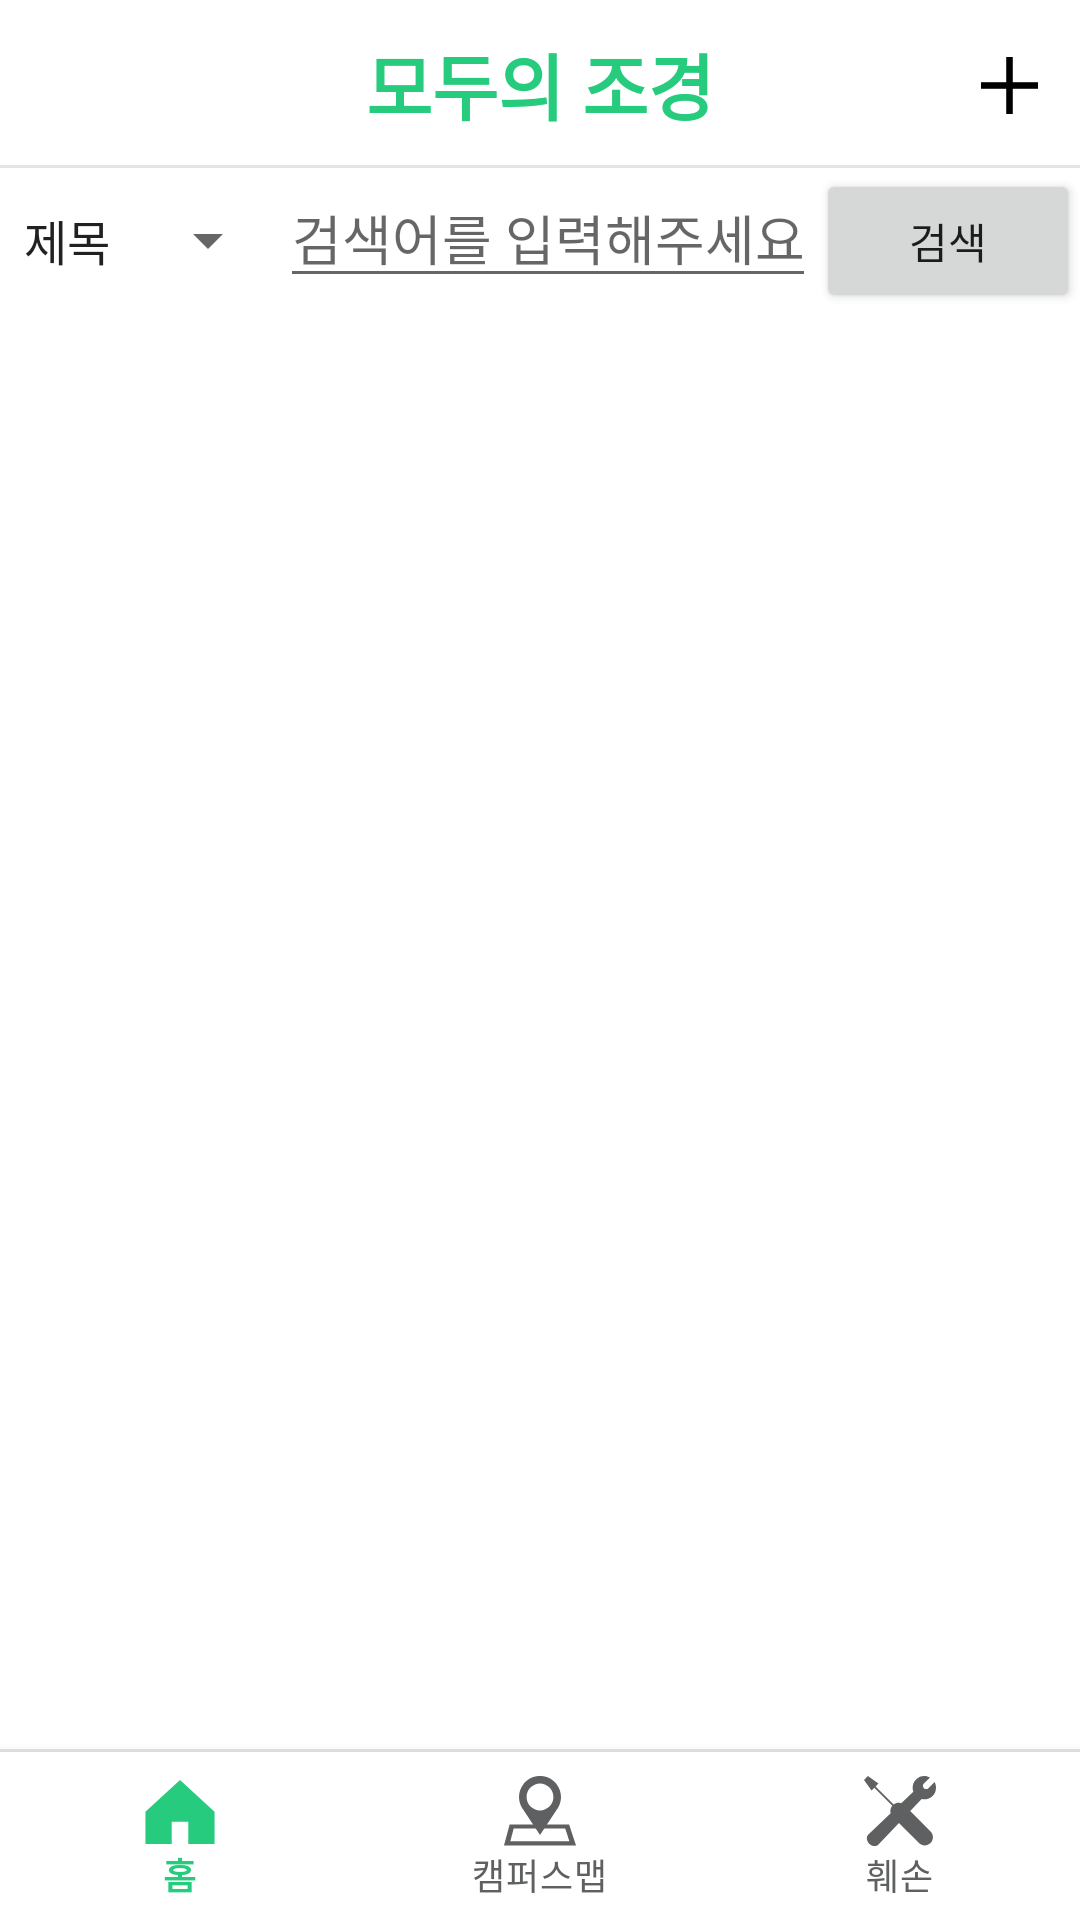

Point at icon controls on the screen. Image size 1080*1920, points as point (x, y).
add: point (1009, 85)
